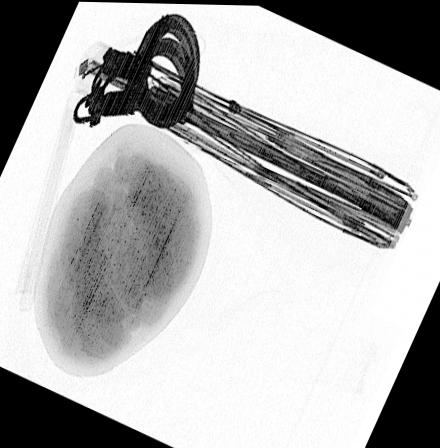HandCuffs: (69, 9, 202, 134)
